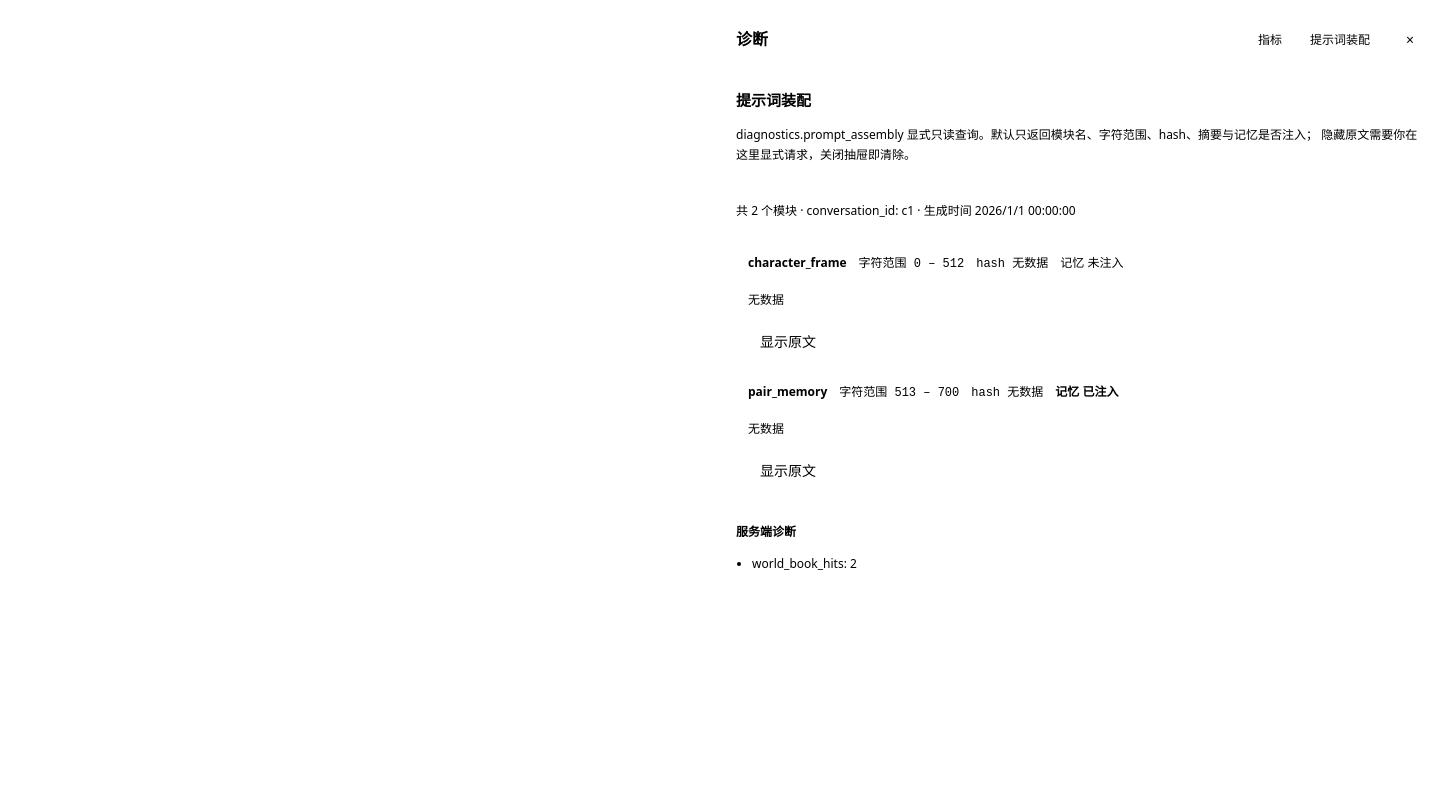
Test: DiagnosticsDrawer 诊断抽屉 › 隐藏原文只在显式请求后显示，关闭抽屉即清除且不自动重新请求
Click the button with test id "diag-module-hidden-btn-character_frame": {"x": 788, "y": 342} top-left (748, 326), bottom-right (828, 358)
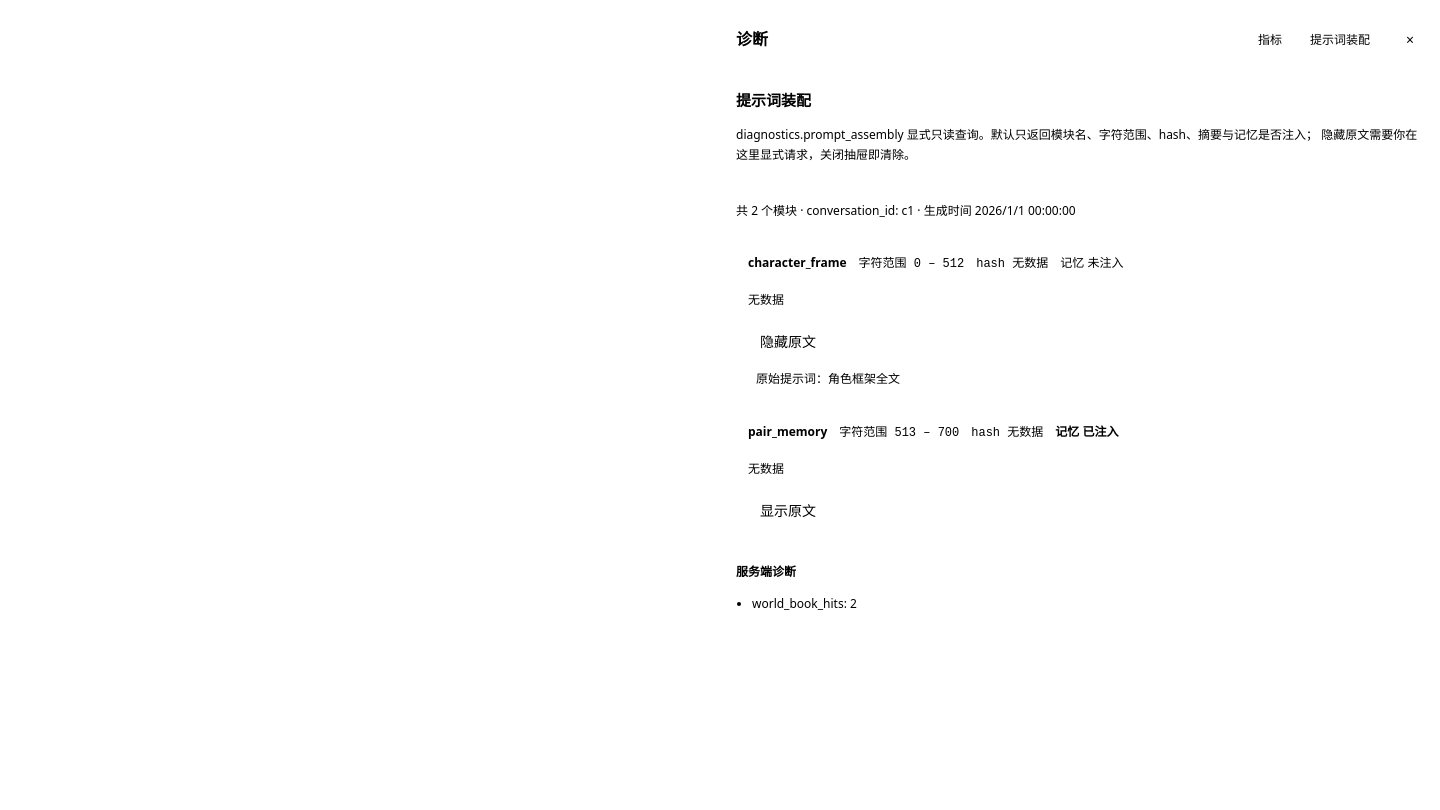
Expected: the text with test id "diag-module-hidden-character_frame" reads "原始提示词：角色框架全文", top-left (756, 372), bottom-right (900, 386)
